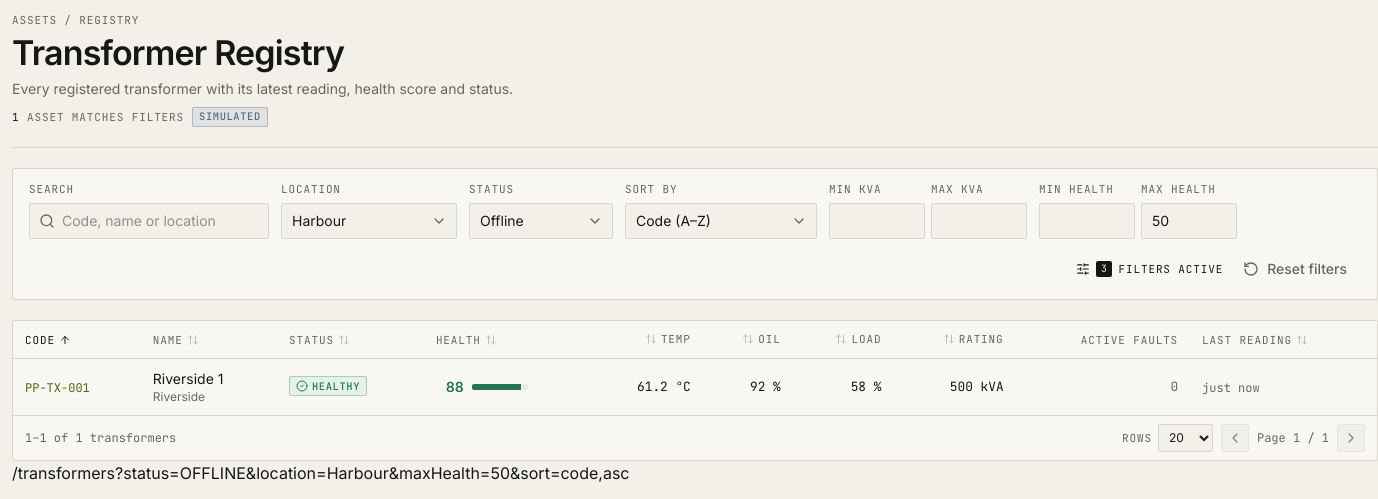
TransformersPage › resets every filter (but keeps sort) from the filter bar
This screenshot has width=1378, height=499.
Check: the link "PP-TX-001" is shown, box [25,380,90,396]
Check: the text "filters active" is shown, box [1118,262,1223,276]
Step 1. Click the button "Reset filters" → x=1296, y=268, box [1231,250,1361,286]
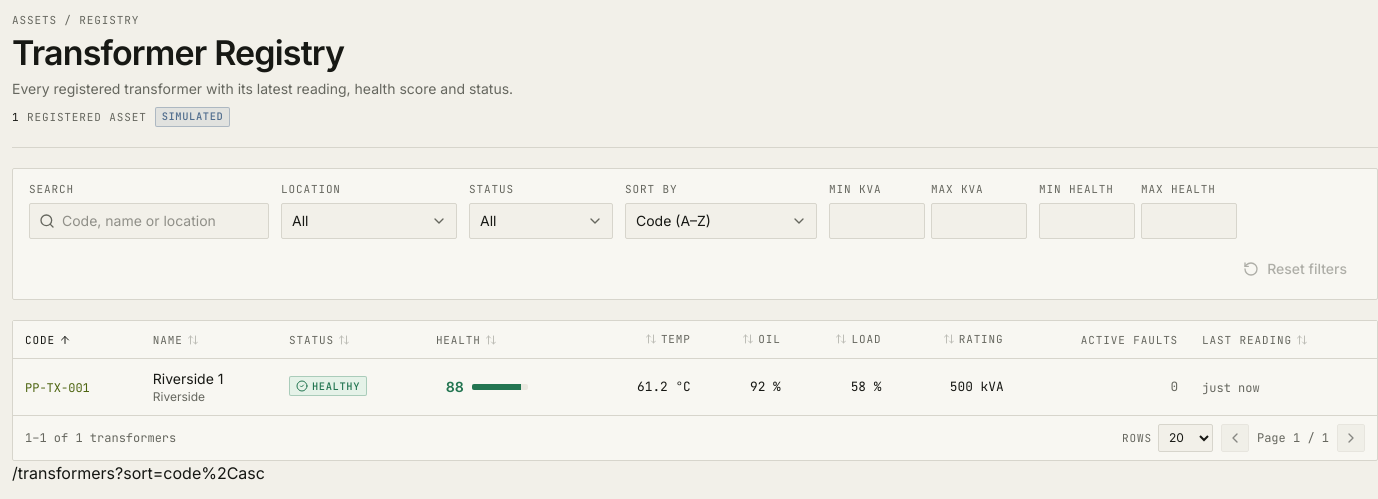
Check: the text with test id "location" reads "/transformers?sort=code%2Casc", box [12,462,265,482]
